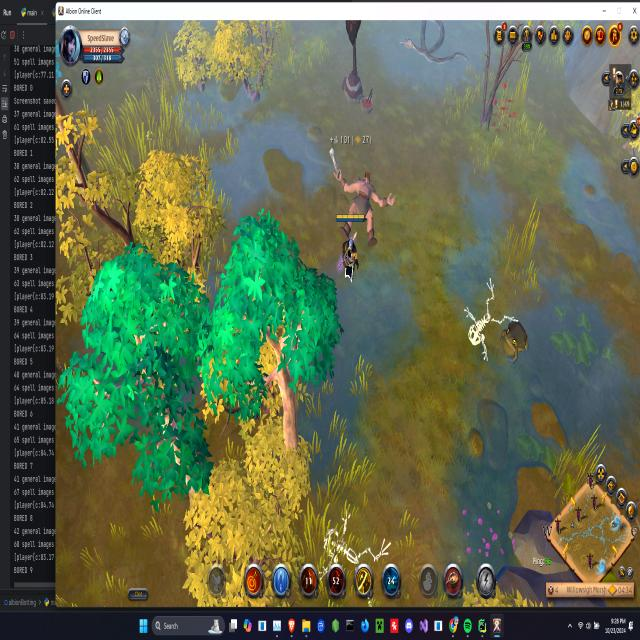ore: (498, 313, 531, 369)
red: (334, 208, 368, 286)
wisp caged: (58, 237, 217, 484), (213, 208, 341, 445)
